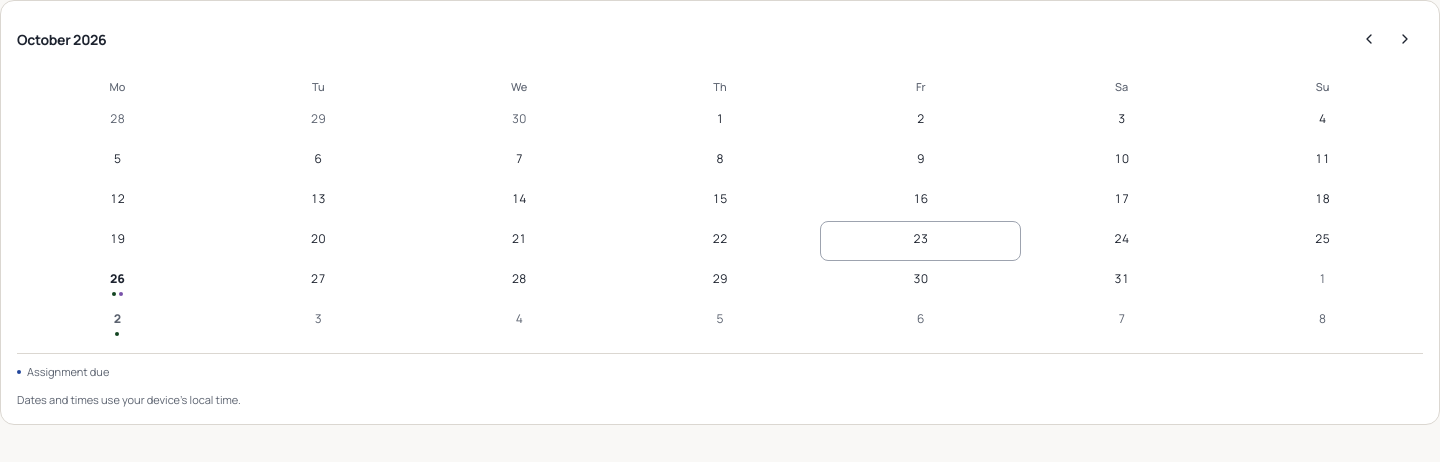
it: assignment deadline calendar › selects a day and offers an explicit whole-month reset
The width and height of the screenshot is (1440, 462).
Click the cell named "Monday, 26 October 2026, 2 assignments due" at (117,281), box [17,261,218,301]
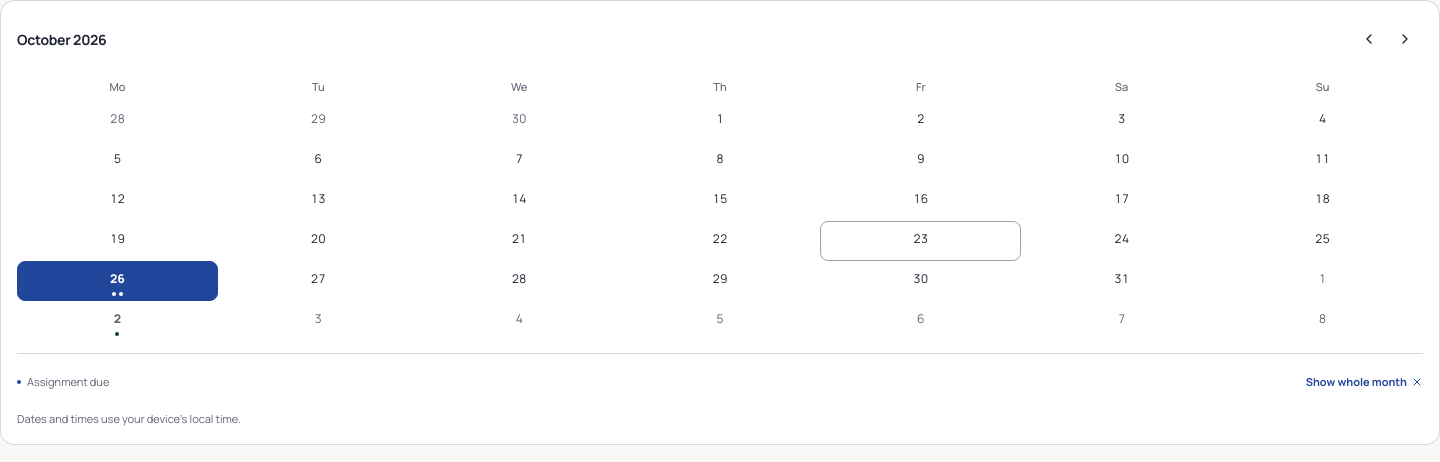
Click the button "Show whole month" at (1364,382), box [1306,364,1423,400]
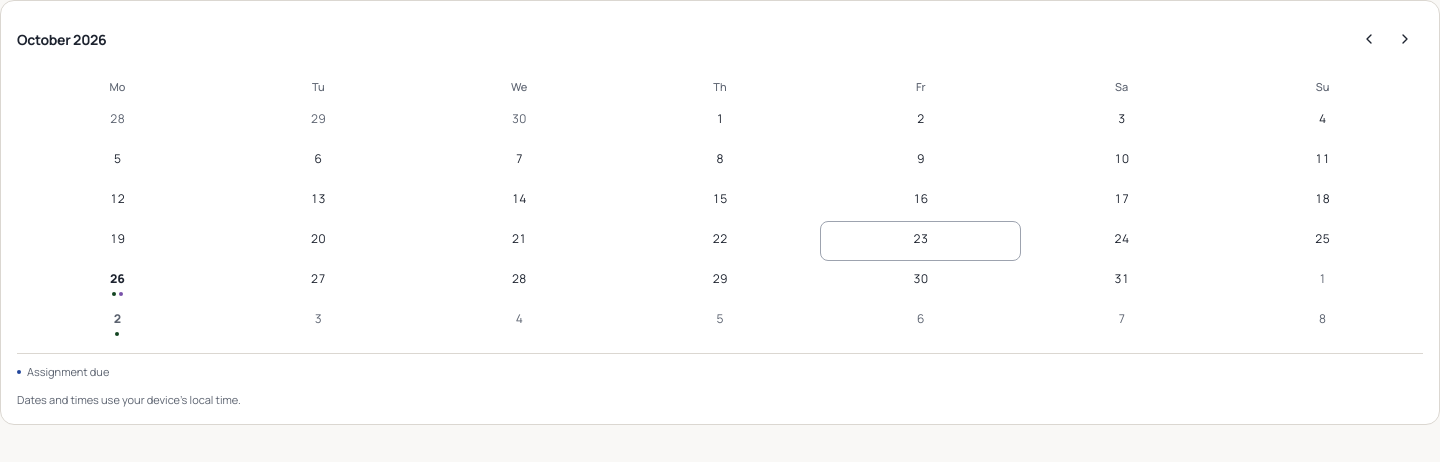
expect the button "Show whole month" is gone: met
